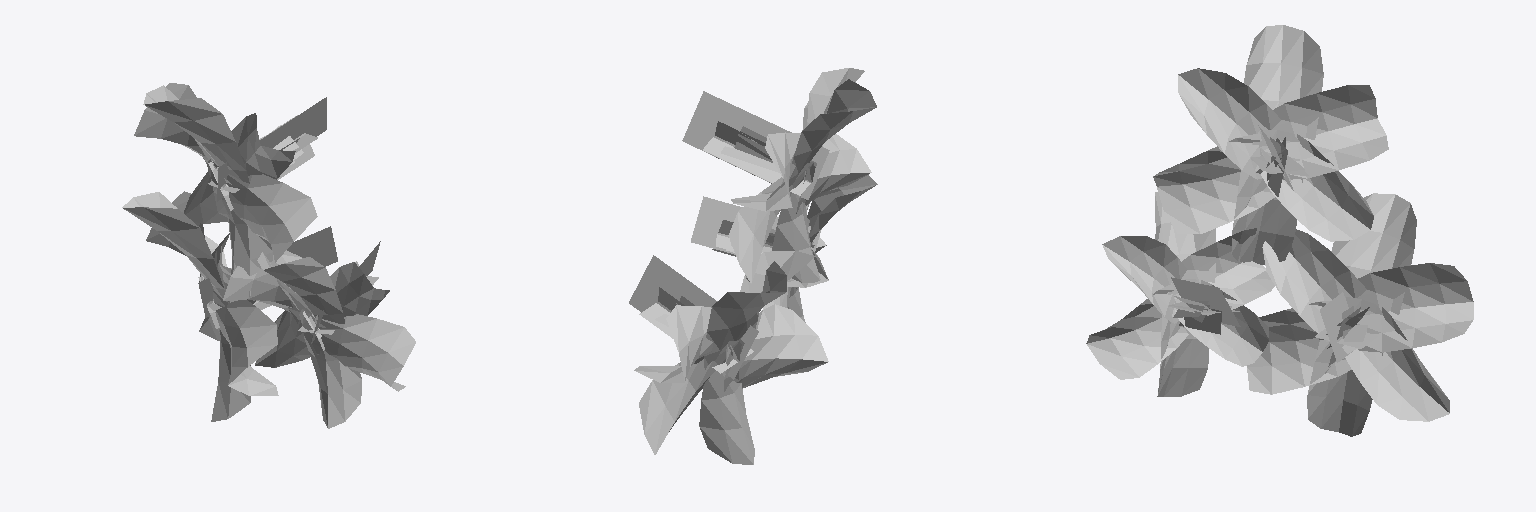
Rendered from Lilly.obj.
3 views of the same model, side by side, from view 1: azimuth 30°, elevation 25°; view 2: azimuth 150°, elevation 25°; view 3: azimuth 270°, elevation 25° (orthographic).
Visible parts, largest first — view 1: 1f.002_1f.008, 2f; view 2: 1f.002_1f.008, 2f; view 3: 1f.002_1f.008, 2f.
Part boxes in pixels (x1,y1,x2,y2): 1f.002_1f.008: (122,83,415,428); 2f: (198,97,380,350); 1f.002_1f.008: (634,68,877,464); 2f: (629,91,829,379); 1f.002_1f.008: (1086,25,1473,436); 2f: (1168,125,1377,366).
Size of the model in its own units: 1.75 by 2.77 by 2.65.